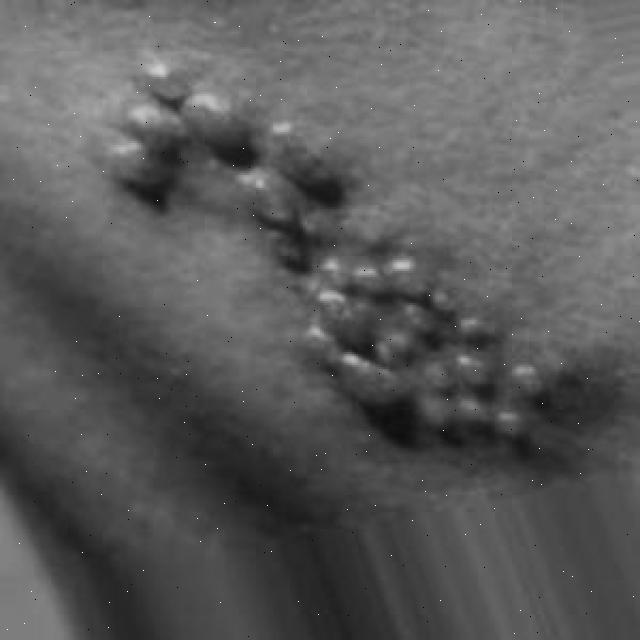Shingles: (113, 48, 574, 478)
